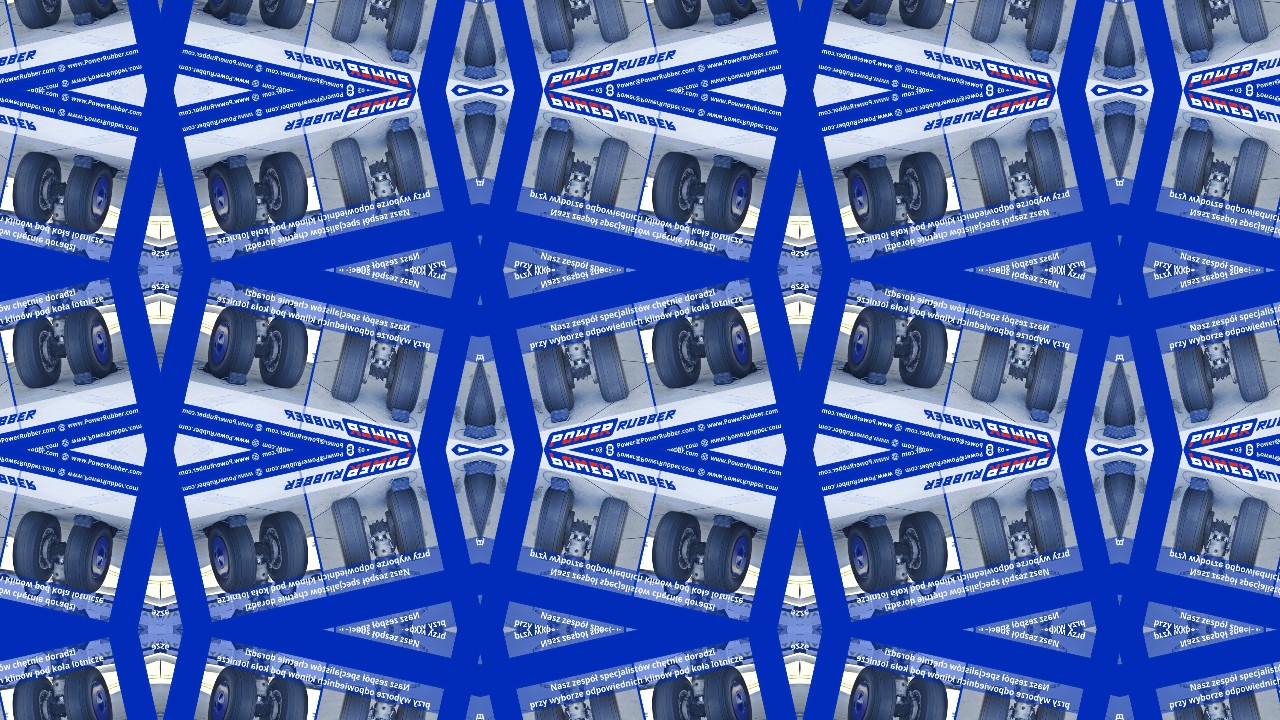chock: (71, 9, 95, 28), (388, 46, 412, 65), (225, 9, 249, 28), (548, 46, 572, 65), (711, 9, 735, 28), (1028, 46, 1052, 65), (865, 9, 889, 28), (1188, 46, 1212, 65), (71, 152, 95, 171), (388, 115, 412, 134), (225, 152, 249, 171), (548, 115, 572, 134), (711, 152, 735, 171), (1028, 115, 1052, 134), (865, 152, 889, 171), (1188, 115, 1212, 134), (71, 369, 95, 388), (388, 406, 412, 425), (225, 369, 249, 388), (548, 406, 572, 425), (711, 369, 735, 388), (1028, 406, 1052, 425), (865, 369, 889, 388), (1188, 406, 1212, 425), (71, 512, 95, 531), (388, 475, 412, 494), (225, 512, 249, 531), (548, 475, 572, 494), (711, 512, 735, 531), (1028, 475, 1052, 494), (865, 512, 889, 531), (1188, 475, 1212, 494), (462, 62, 480, 82), (480, 62, 498, 82), (1102, 62, 1120, 82), (1120, 62, 1138, 82), (462, 98, 480, 118), (480, 98, 498, 118), (1102, 98, 1120, 118), (1120, 98, 1138, 118), (462, 422, 480, 442), (480, 422, 498, 442), (1102, 422, 1120, 442), (1120, 422, 1138, 442), (462, 458, 480, 478), (480, 458, 498, 478), (1102, 458, 1120, 478), (1120, 458, 1138, 478), (107, 1, 120, 14), (200, 1, 213, 14), (747, 1, 760, 14), (840, 1, 853, 14), (107, 166, 120, 179), (200, 166, 213, 179), (747, 166, 760, 179), (840, 166, 853, 179), (107, 361, 120, 374), (200, 361, 213, 374), (747, 361, 760, 374), (840, 361, 853, 374), (107, 526, 120, 539), (200, 526, 213, 539), (747, 526, 760, 539), (840, 526, 853, 539)
wheel: (57, 155, 118, 236), (202, 155, 263, 236), (697, 155, 758, 236), (842, 155, 903, 236), (57, 304, 118, 385), (202, 304, 263, 385), (697, 304, 758, 385), (842, 304, 903, 385), (57, 515, 118, 596), (202, 515, 263, 596), (697, 515, 758, 596), (842, 515, 903, 596), (5, 148, 66, 226), (254, 148, 315, 226), (645, 148, 706, 226), (894, 148, 955, 226), (5, 314, 66, 392), (254, 314, 315, 392), (645, 314, 706, 392), (894, 314, 955, 392), (5, 508, 66, 586), (254, 508, 315, 586), (645, 508, 706, 586), (894, 508, 955, 586), (383, 123, 431, 204), (529, 123, 577, 204), (1023, 123, 1071, 204), (1169, 123, 1217, 204), (383, 336, 431, 417), (529, 336, 577, 417), (1023, 336, 1071, 417), (1169, 336, 1217, 417), (383, 483, 431, 564), (529, 483, 577, 564), (1023, 483, 1071, 564), (1169, 483, 1217, 564), (329, 136, 374, 215), (586, 136, 631, 215), (969, 136, 1014, 215), (1226, 136, 1271, 215), (329, 325, 374, 404), (586, 325, 631, 404), (969, 325, 1014, 404), (1226, 325, 1271, 404), (329, 496, 374, 575), (586, 496, 631, 575), (969, 496, 1014, 575), (1226, 496, 1271, 575), (57, 664, 118, 720), (202, 664, 263, 720), (697, 664, 758, 720), (842, 664, 903, 720), (5, 674, 66, 720), (254, 674, 315, 720), (645, 674, 706, 720), (894, 674, 955, 720), (383, 0, 431, 57), (529, 0, 577, 57), (1023, 0, 1071, 57), (1169, 0, 1217, 57), (329, 0, 374, 44), (586, 0, 631, 44), (969, 0, 1014, 44), (1226, 0, 1271, 44), (5, 0, 66, 32), (254, 0, 315, 32), (645, 0, 706, 32), (894, 0, 955, 32), (460, 106, 480, 187), (480, 106, 500, 187), (1100, 106, 1120, 187), (1120, 106, 1140, 187), (460, 353, 480, 434), (480, 353, 500, 434), (1100, 353, 1120, 434), (1120, 353, 1140, 434), (460, 466, 480, 547), (480, 466, 500, 547), (1100, 466, 1120, 547), (1120, 466, 1140, 547), (329, 685, 374, 720), (586, 685, 631, 720), (969, 685, 1014, 720), (1226, 685, 1271, 720), (57, 0, 118, 25), (202, 0, 263, 25), (697, 0, 758, 25), (842, 0, 903, 25), (460, 0, 480, 74), (480, 0, 500, 74), (1100, 0, 1120, 74), (1120, 0, 1140, 74), (383, 696, 431, 720), (529, 696, 577, 720), (1023, 696, 1071, 720), (1169, 696, 1217, 720), (22, 220, 44, 239), (276, 220, 298, 239), (662, 220, 684, 239), (916, 220, 938, 239), (22, 301, 44, 320), (276, 301, 298, 320), (662, 301, 684, 320), (916, 301, 938, 320), (22, 580, 44, 599), (276, 580, 298, 599), (662, 580, 684, 599), (916, 580, 938, 599), (22, 661, 44, 680), (276, 661, 298, 680), (662, 661, 684, 680), (916, 661, 938, 680), (460, 713, 480, 720), (480, 713, 500, 720), (1100, 713, 1120, 720), (1120, 713, 1140, 720)
